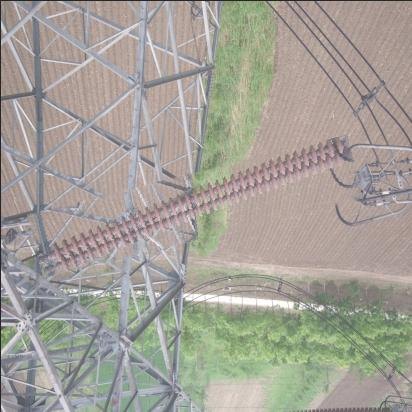insulator: (29, 154, 362, 259)
